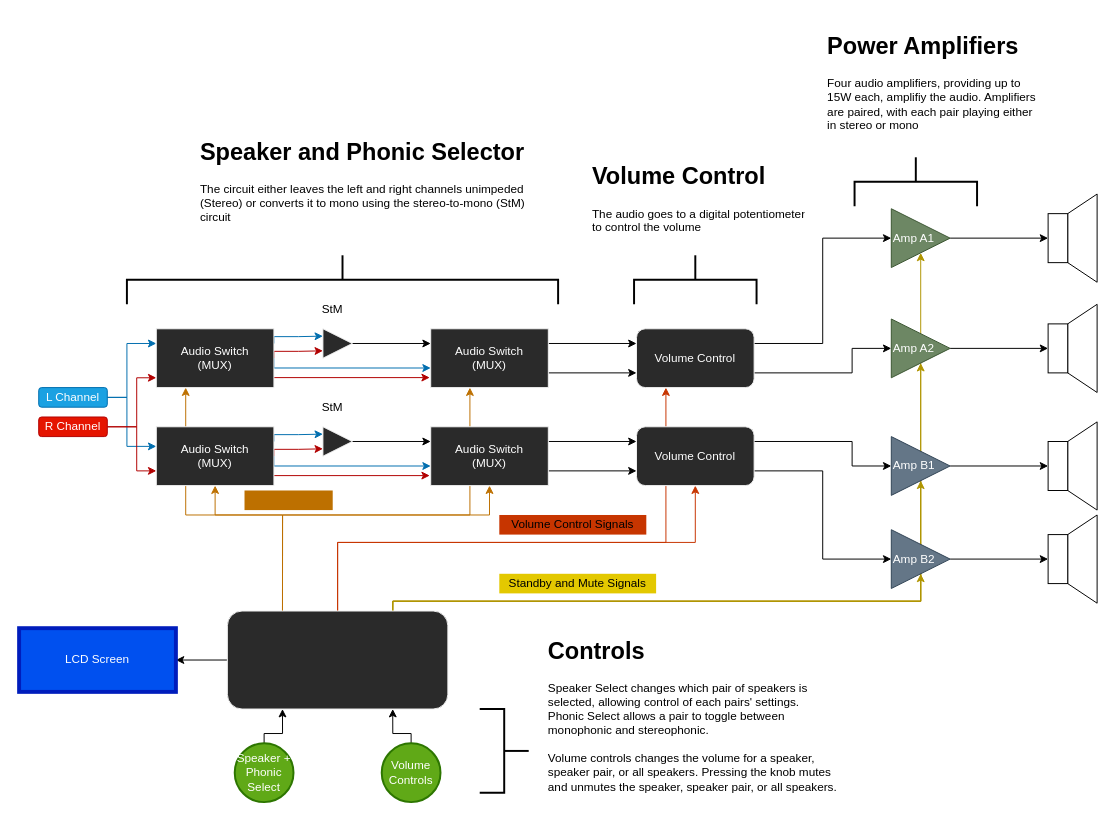
This 1114x831 diagram has some shape labels left out. Each missing label, with the centre of its shape:
"Microcontroller" goes at point 337,659.
"Phonic Signals" goes at point 288,500.
